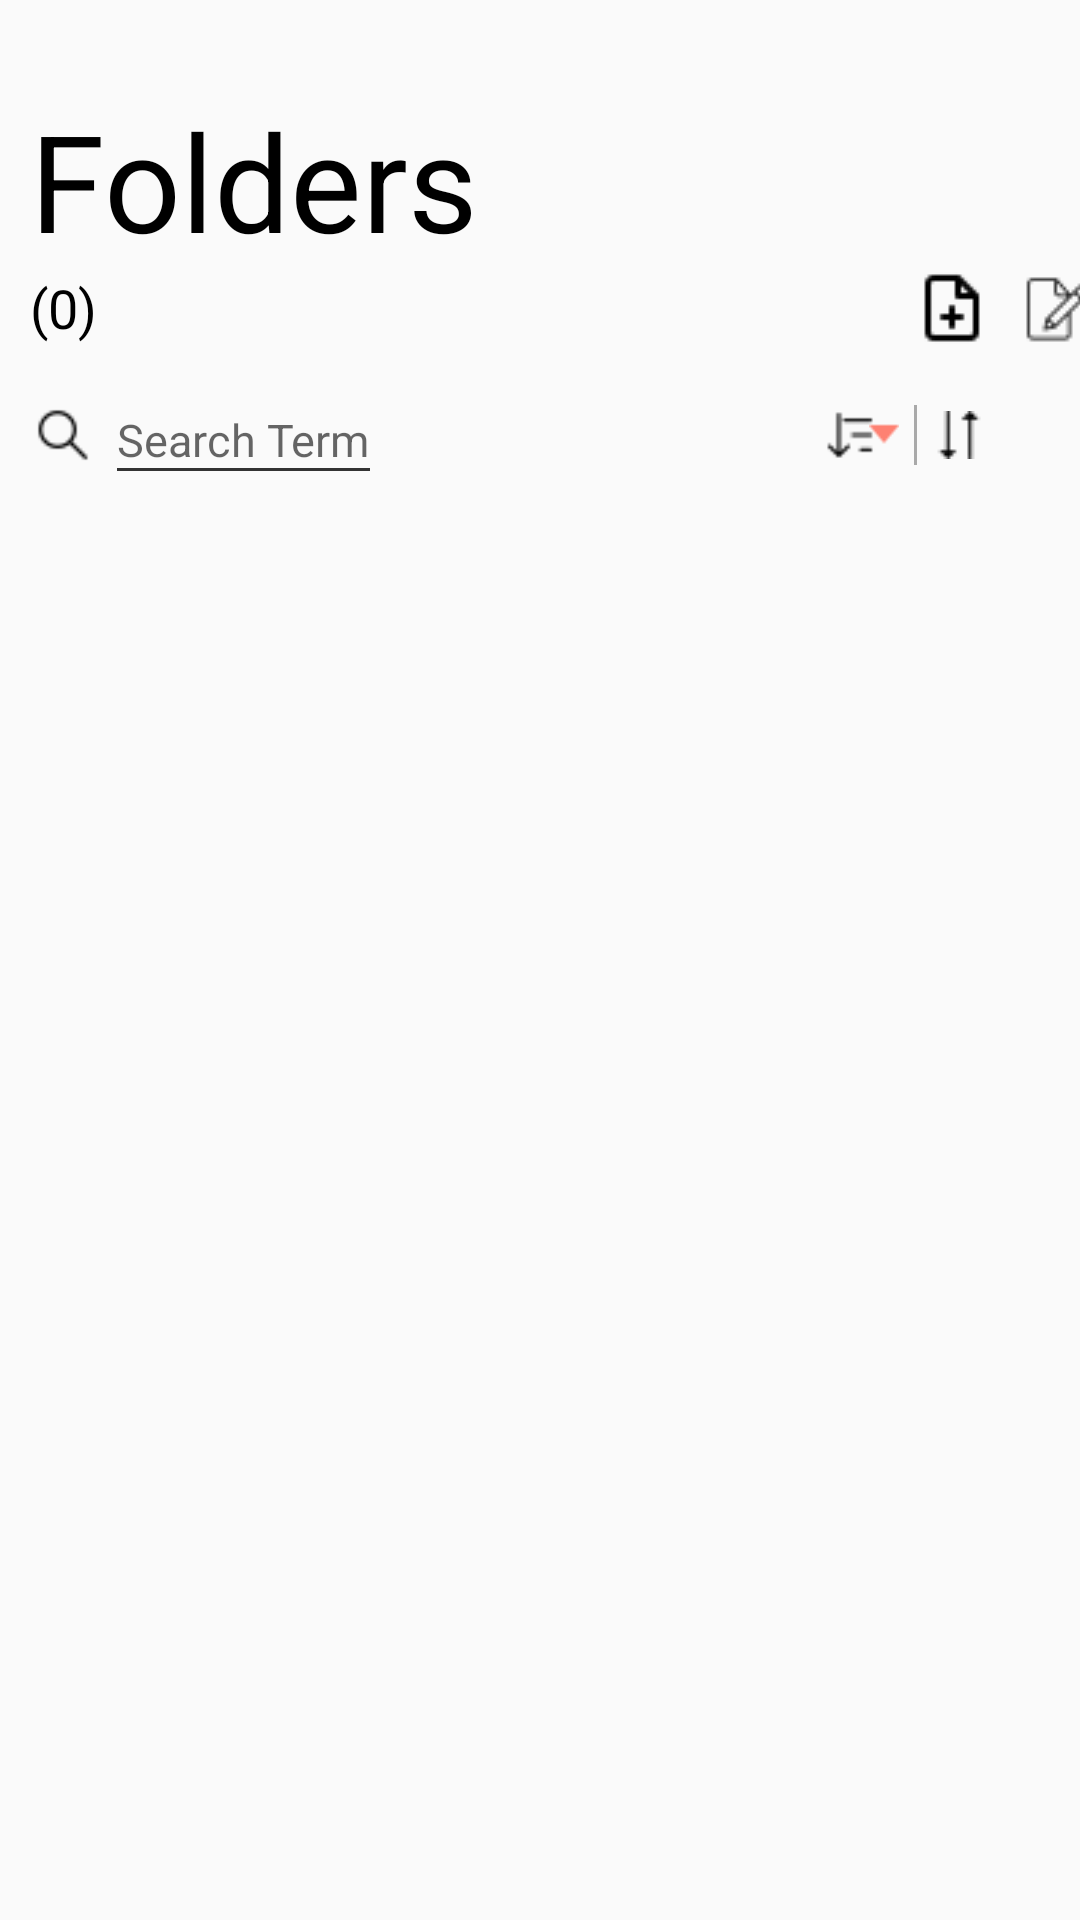

Icons on this 1080*1920 Android screen, each with its box as (x1, y1, x2, y2):
sort: (827, 412, 883, 458)
